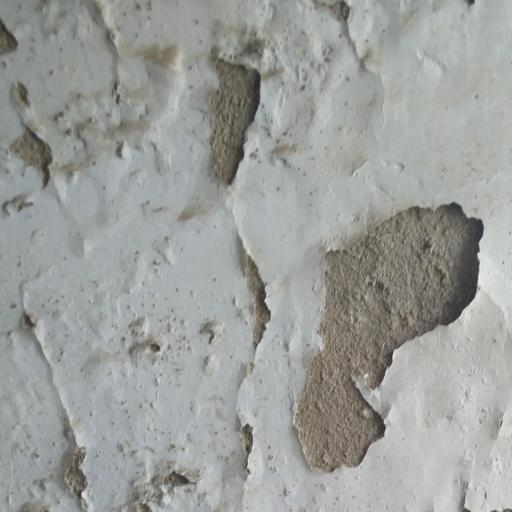peeling: (303, 202, 499, 481), (9, 257, 118, 512), (189, 42, 304, 204), (88, 8, 187, 182), (212, 225, 268, 499), (0, 11, 62, 219), (330, 0, 404, 92), (140, 445, 196, 512), (128, 305, 174, 366)
